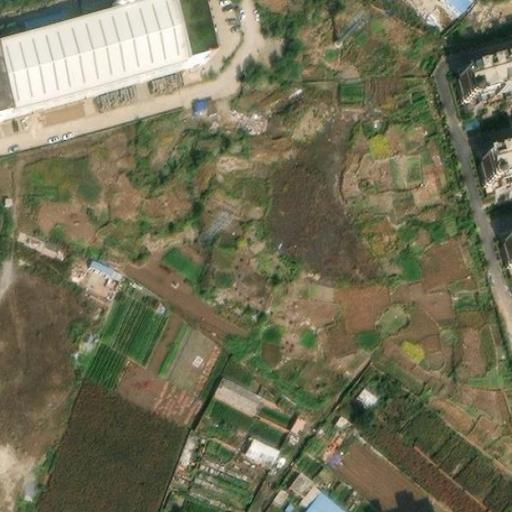building: (211, 370, 264, 408), (466, 41, 512, 83), (82, 253, 123, 286), (242, 430, 281, 463), (280, 465, 316, 500), (300, 489, 347, 512), (484, 142, 512, 178), (350, 381, 382, 412), (497, 228, 512, 272), (284, 410, 307, 435), (190, 97, 211, 116)
